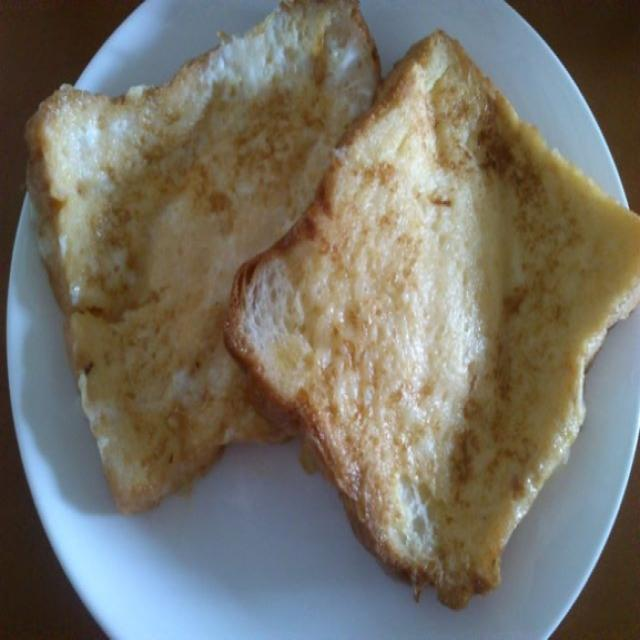面包点心: (20, 13, 611, 612)
